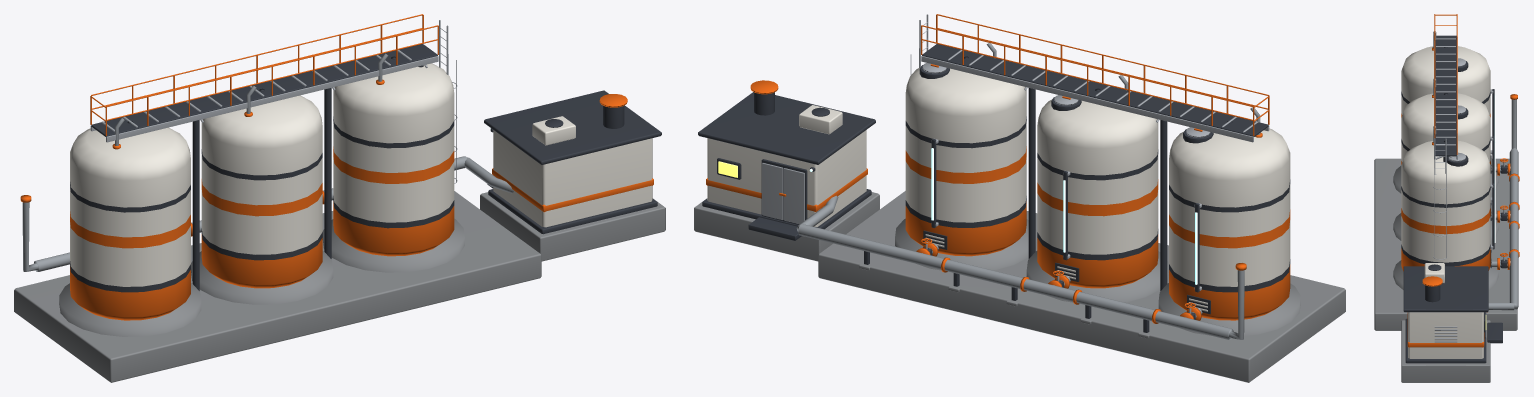
The model's file is outpost_tank.glb.
3 renders of one model, left to right at view 1: azimuth 30°, elevation 25°; view 2: azimuth 150°, elevation 25°; view 3: azimuth 270°, elevation 25°, orthographic. The views are drawn at different scales.
Visible parts, largest first — view 1: Body; view 2: Body; view 3: Body.
Part boxes in pixels (x1,y1,x2,y2): Body: [14, 14, 665, 382]; Body: [694, 14, 1345, 382]; Body: [1374, 14, 1519, 382].
Size of the model in its own units: 21.8 by 8.71 by 6.49.
